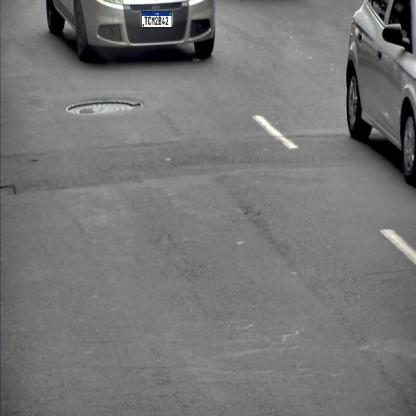PlacaM: (142, 11, 172, 28)
